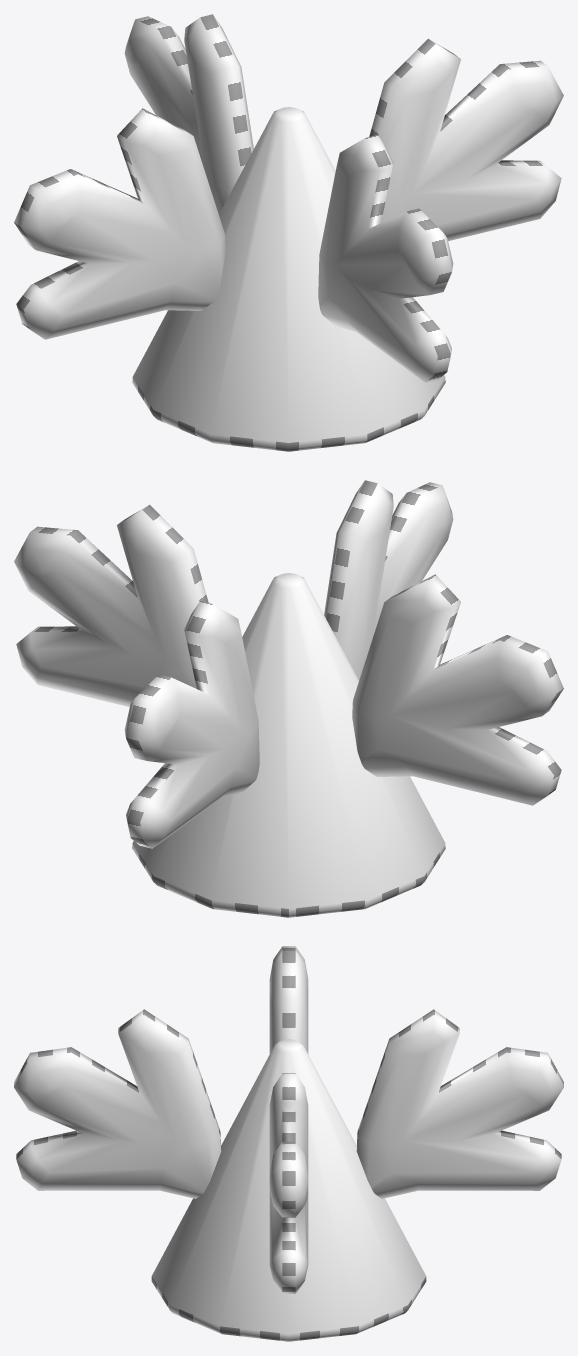
File: omen_plush.glb
3 renders of one model, top to bottom at view 1: azimuth 30°, elevation 25°; view 2: azimuth 150°, elevation 25°; view 3: azimuth 270°, elevation 25°, orthographic. The views are drawn at different scales.
Parts seen in each view (by area): view 1: Cone; view 2: Cone; view 3: Cone.
Part boxes in pixels (x1,y1,x2,y2): Cone: (14,14,563,451); Cone: (14,480,563,917); Cone: (14,946,563,1341).
Size of the model in its own units: 62.35 by 35.18 by 62.35.
Materials: 1 (1 with a texture image).
